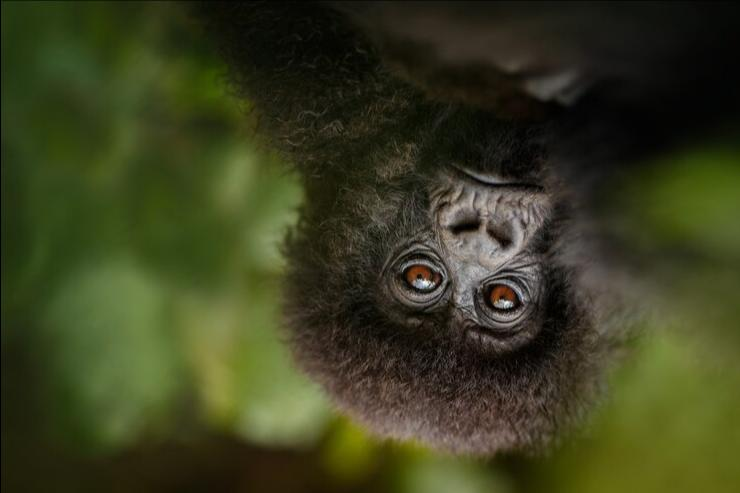goriile_montagne: (212, 0, 662, 493)
